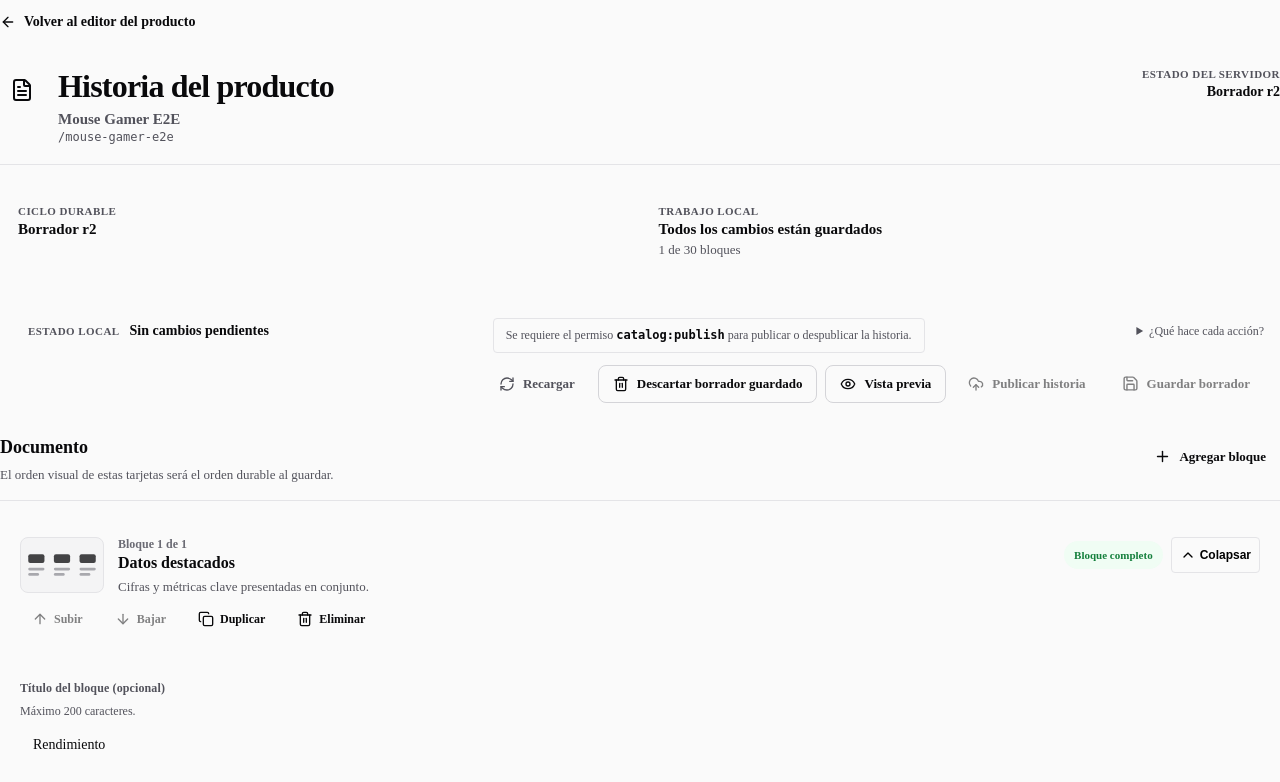
Test case: GP-026 CHK2 Story Builder component › requires confirmation for a complete block and can delete to an empty document
The width and height of the screenshot is (1280, 782).
Click the button with aria-label "Eliminar Datos destacados" at (331, 619), box [285, 597, 377, 641]
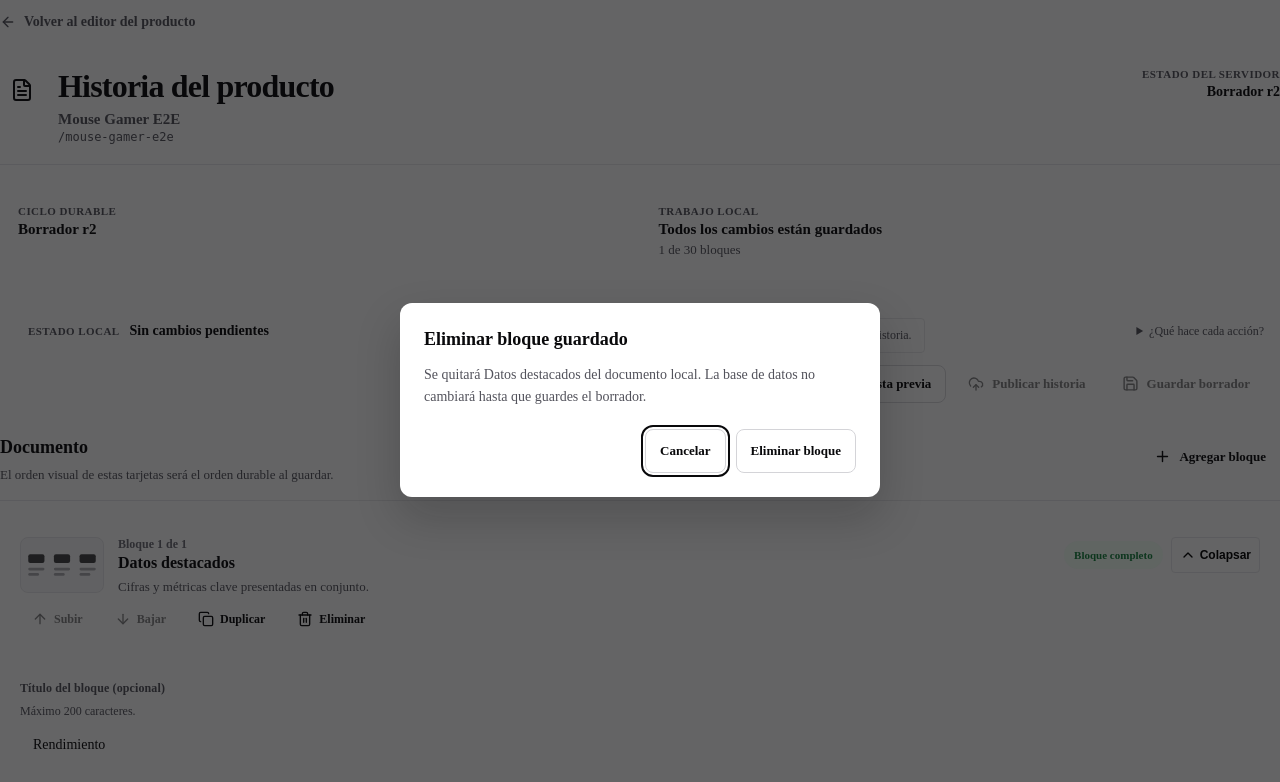
expect the dialog "Eliminar bloque guardado" is shown: met, box [400, 304, 880, 497]
Click the button "Eliminar bloque" at (796, 450), box [736, 428, 856, 472]
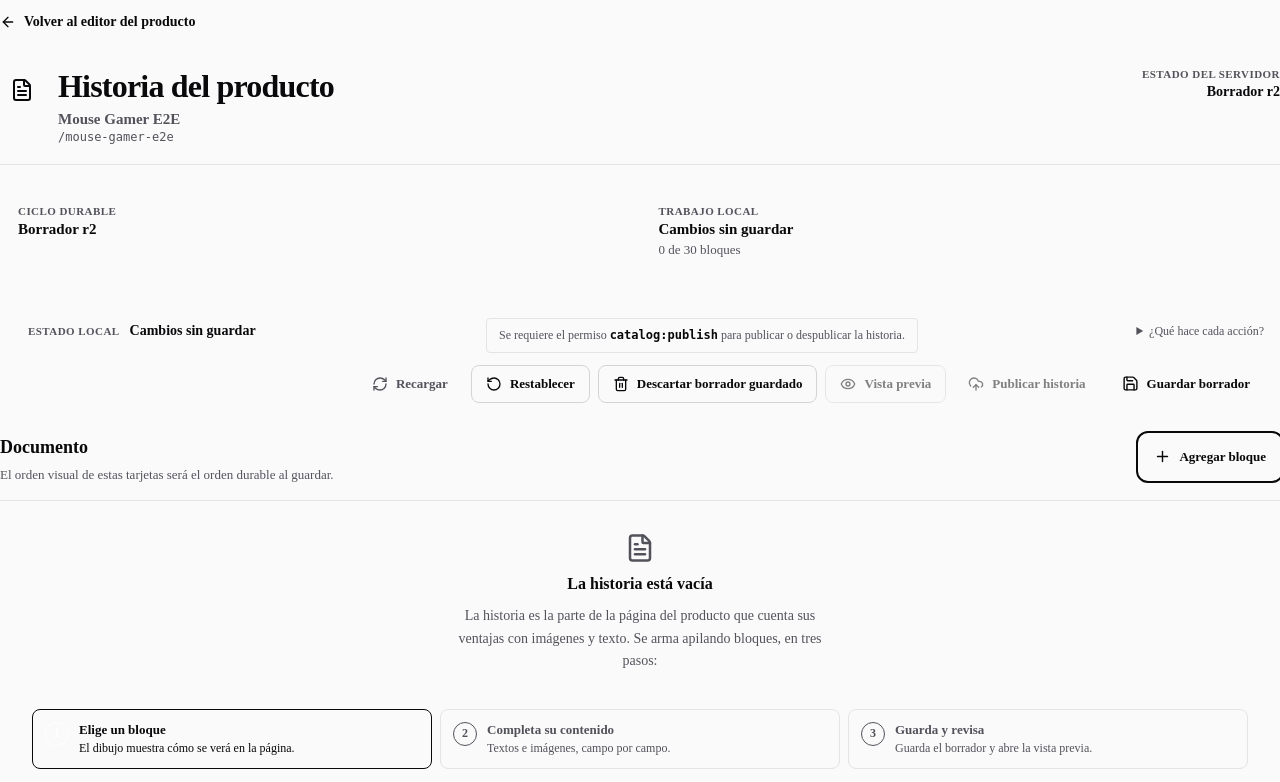
expect the button with test id "story-save-draft" is enabled: met, box [1108, 365, 1264, 403]
